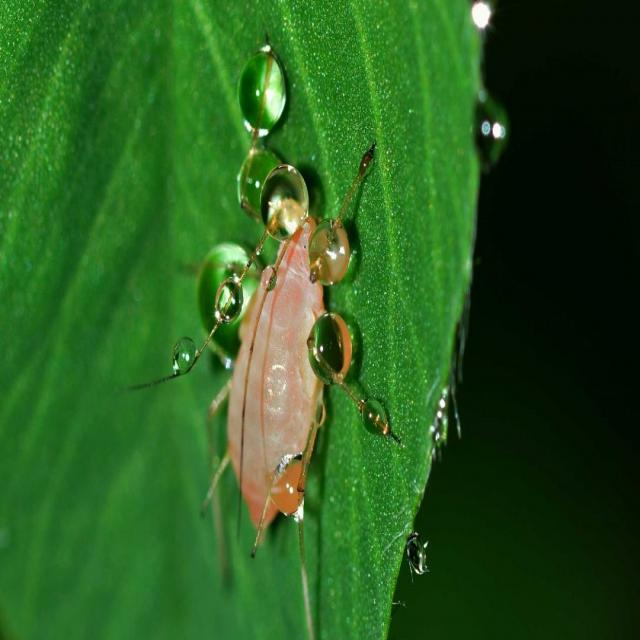Aphid-Grown-: (214, 200, 339, 542)
